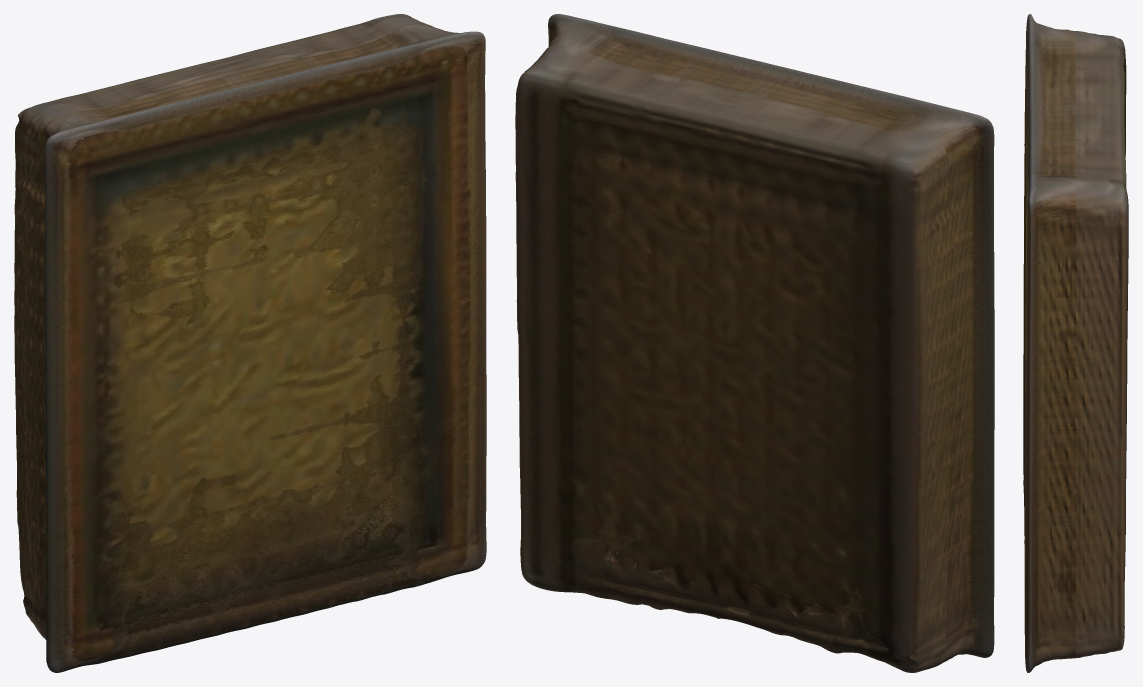
Rendered from kfl-2276.glb.
3 renders of one model, left to right at view 1: azimuth 30°, elevation 25°; view 2: azimuth 150°, elevation 25°; view 3: azimuth 270°, elevation 25°, orthographic. The views are drawn at different scales.
Parts seen in each view (by area): view 1: geometry_0; view 2: geometry_0; view 3: geometry_0.
Part boxes in pixels (x1=…): geometry_0: x1=14, y1=14, x2=486, y2=672; geometry_0: x1=515, y1=14, x2=994, y2=672; geometry_0: x1=1023, y1=14, x2=1128, y2=672.
Size of the model in its own units: 0.8505 by 0.9969 by 0.1987.
1 material, 1 textured.
